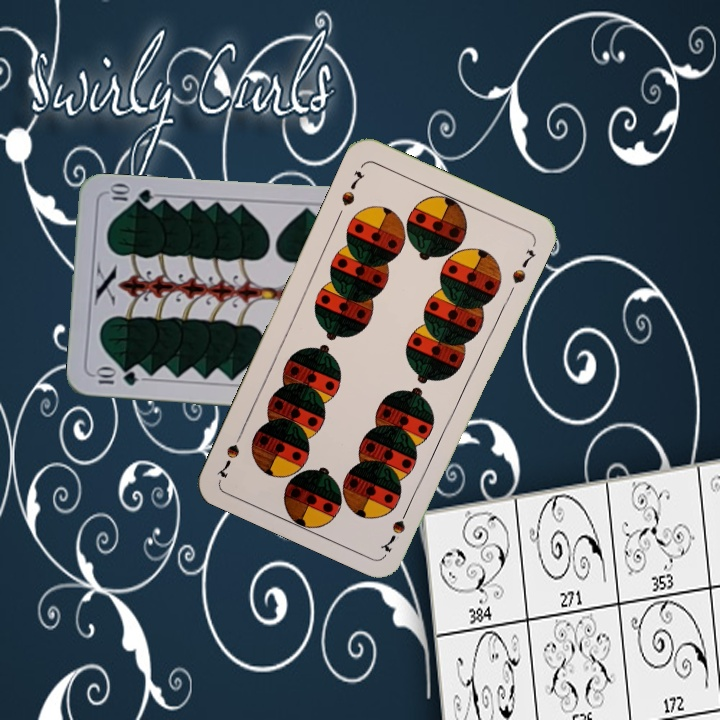G10: (91, 366, 140, 388)
S7: (378, 500, 413, 555), (337, 166, 368, 208)
